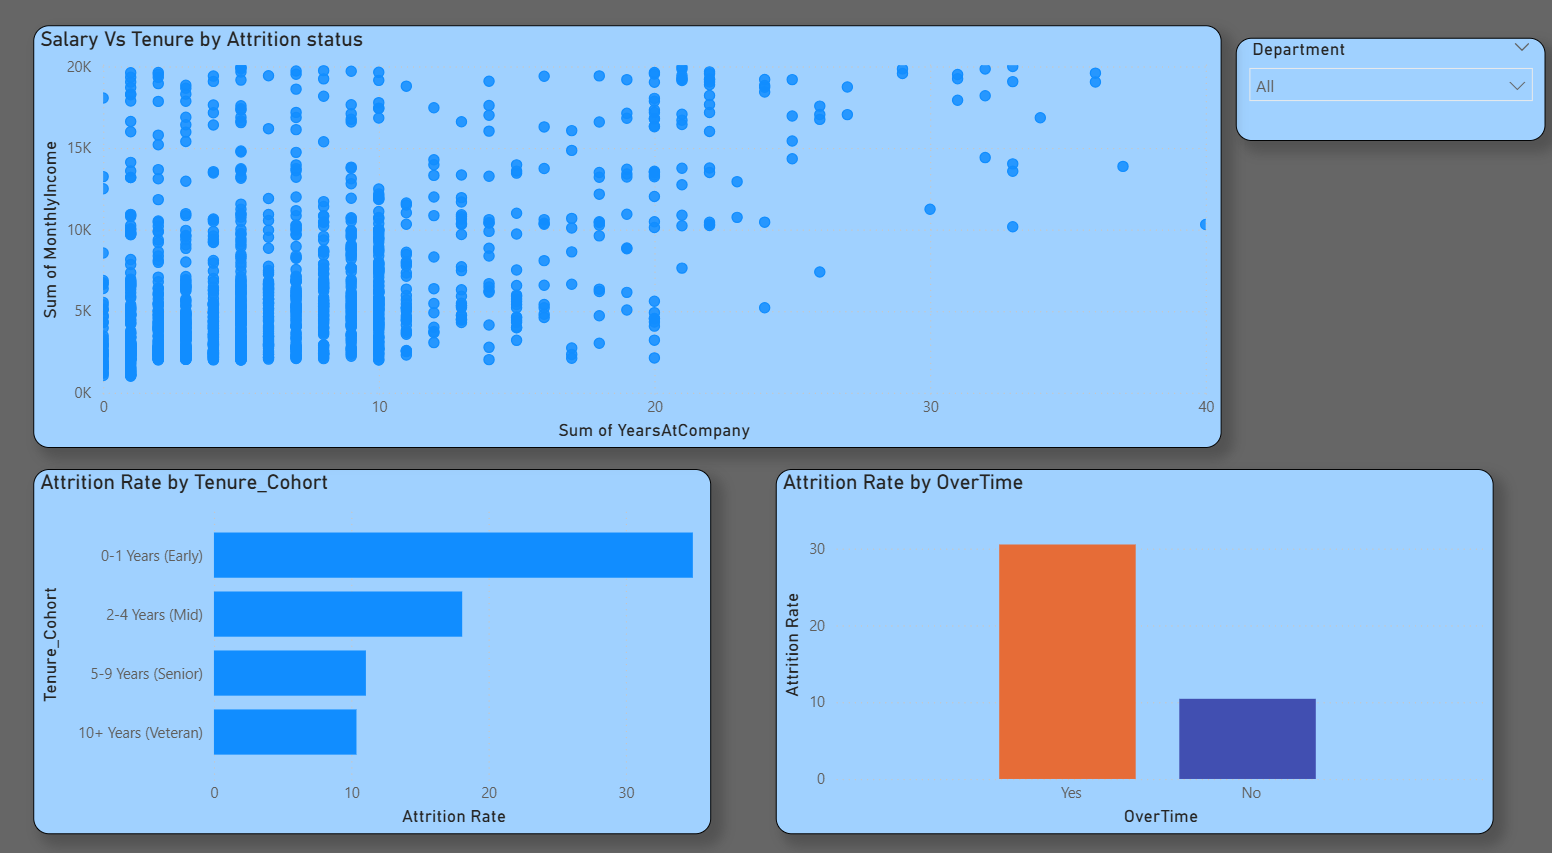

The dashboard page shown, as its layout file describes it:
{"tool":"powerbi","page":{"name":"Department Drill Down","canvas":[1280,720],"ordinal":1},"visuals":[{"type":"slicer","fields":{"Values":["WA_Fn-UseC_-HR-Employee-Attrition.Department"]},"box":[1017.4,39.5,254.7,84.9],"z":0},{"type":"clusteredBarChart","fields":{"Category":["WA_Fn-UseC_-HR-Employee-Attrition.Tenure_Cohort"],"Y":["WA_Fn-UseC_-HR-Employee-Attrition.Attrition Rate"]},"box":[62.8,394.2,439.5,300],"z":1000},{"type":"scatterChart","title":"Salary Vs Tenure by Attrition status","fields":{"Category":["WA_Fn-UseC_-HR-Employee-Attrition.EmployeeNumber"],"X":["Sum(WA_Fn-UseC_-HR-Employee-Attrition.YearsAtCompany)"],"Y":["Sum(WA_Fn-UseC_-HR-Employee-Attrition.MonthlyIncome)"]},"box":[105.8,27.9,894.2,346.5],"z":2000},{"type":"clusteredColumnChart","fields":{"Category":["WA_Fn-UseC_-HR-Employee-Attrition.OverTime"],"Y":["WA_Fn-UseC_-HR-Employee-Attrition.Attrition Rate"]},"box":[639.5,394.2,469.8,300],"z":3000}]}

Visuals, with their boxes in screenshot pixels (x1, y1, x2, y2), scaled from the page's 1280x720 canvas onto the 1552x853 screenshot:
slicer - WA_Fn-UseC_-HR-Employee-Attrition.Department: [1234,47,1542,147]
clusteredBarChart - WA_Fn-UseC_-HR-Employee-Attrition.Tenure_Cohort x WA_Fn-UseC_-HR-Employee-Attrition.Attrition Rate: [76,467,609,822]
"Salary Vs Tenure by Attrition status" scatterChart: [128,33,1212,444]
clusteredColumnChart - WA_Fn-UseC_-HR-Employee-Attrition.OverTime x WA_Fn-UseC_-HR-Employee-Attrition.Attrition Rate: [775,467,1345,822]
